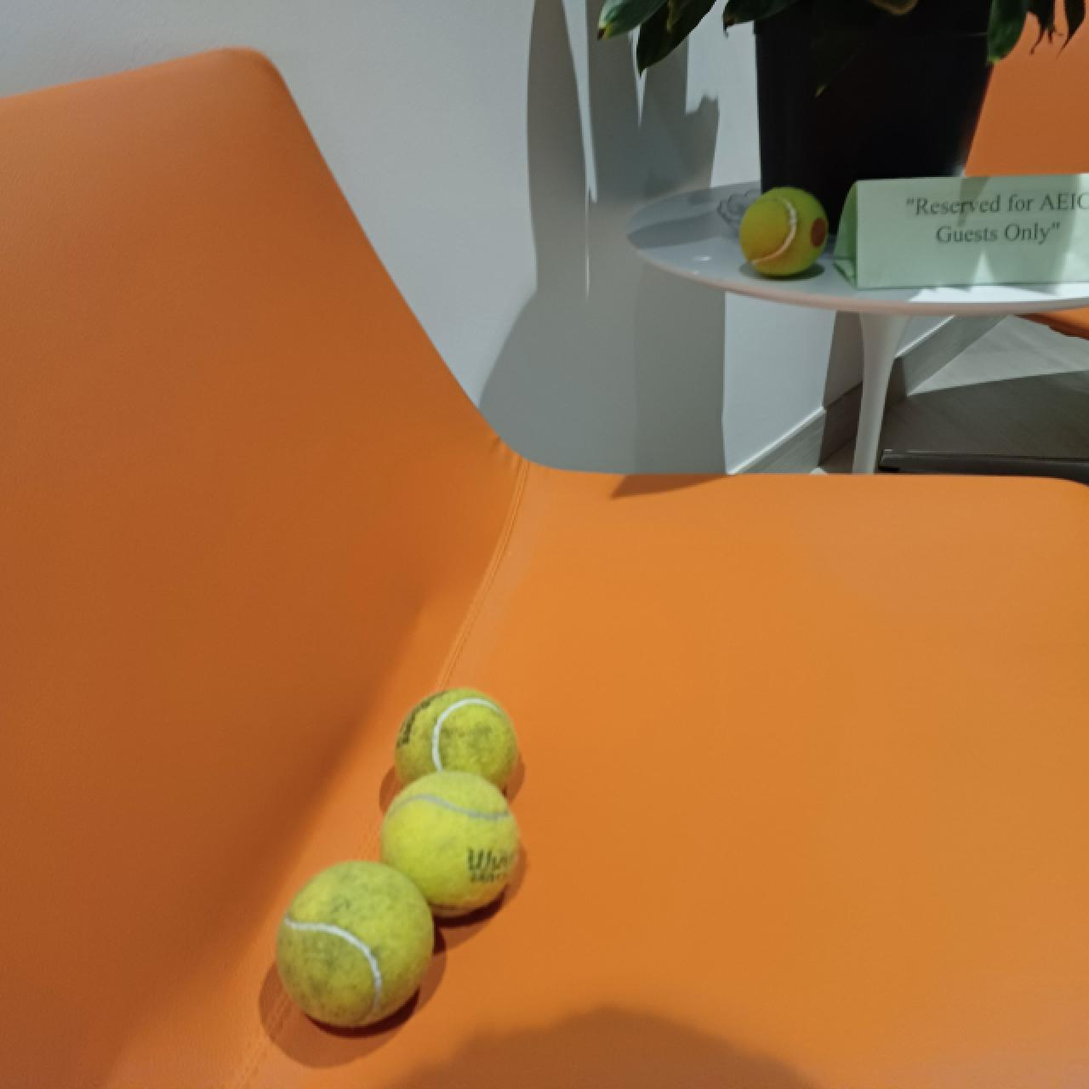tennis-ball: (275, 860, 436, 1032), (379, 767, 521, 922), (391, 684, 524, 814), (741, 186, 828, 277)
